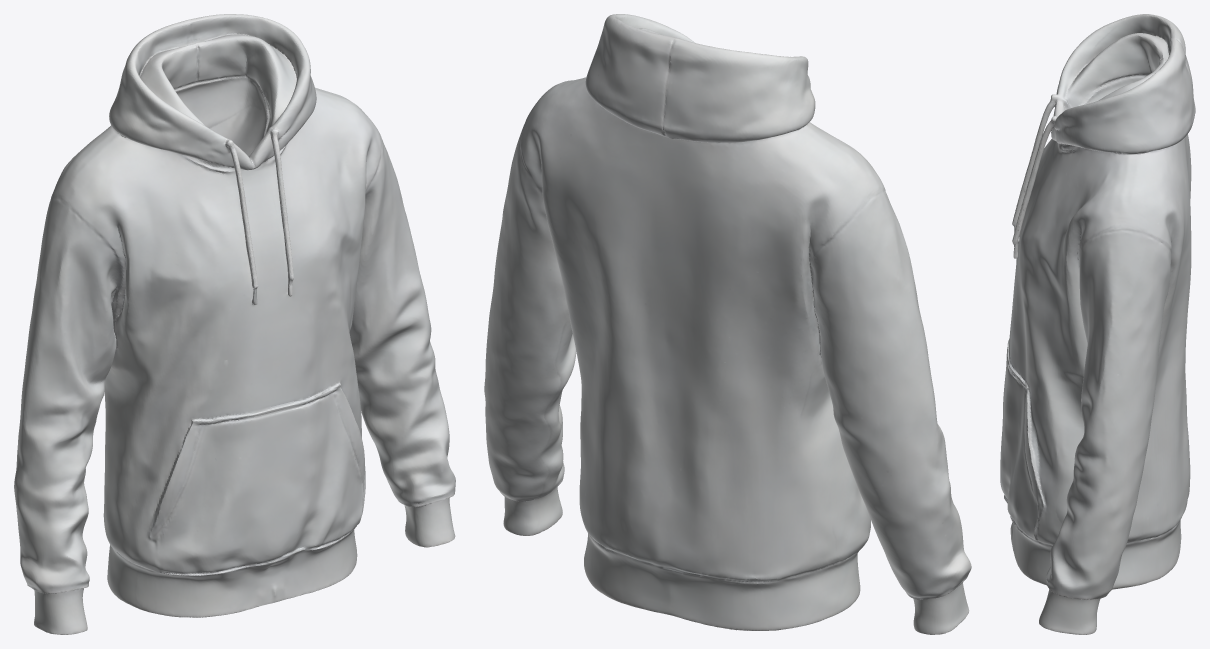
Rendered from base_basic_pbr.glb.
The picture shows the model from 3 angles, left to right: view 1: azimuth 30°, elevation 25°; view 2: azimuth 150°, elevation 25°; view 3: azimuth 270°, elevation 25°; orthographic projection. The views are drawn at different scales.
Parts seen in each view (by area): view 1: model; view 2: model; view 3: model.
Part boxes in pixels (box(x1,y1,x2,y2)): model: box(14, 14, 455, 634); model: box(484, 14, 971, 634); model: box(1000, 14, 1195, 634).
Size of the model in its own units: 0.8448 by 1 by 0.3519.
1 material, 1 textured.
